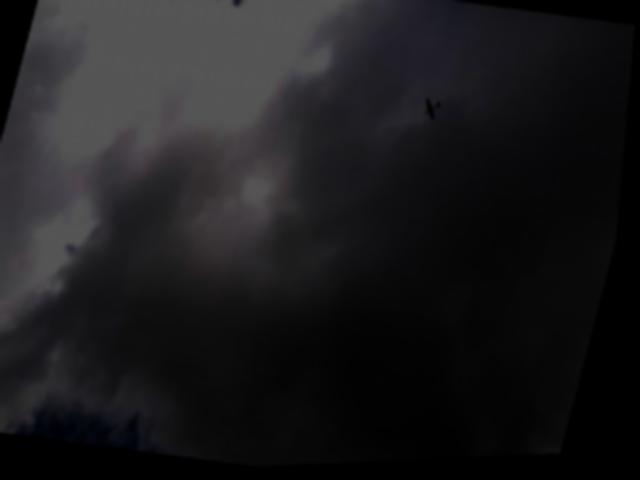iha: (417, 98, 448, 128)
